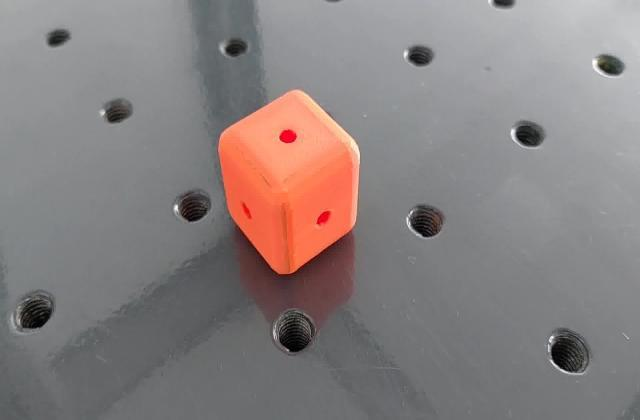cube: (212, 85, 363, 279)
